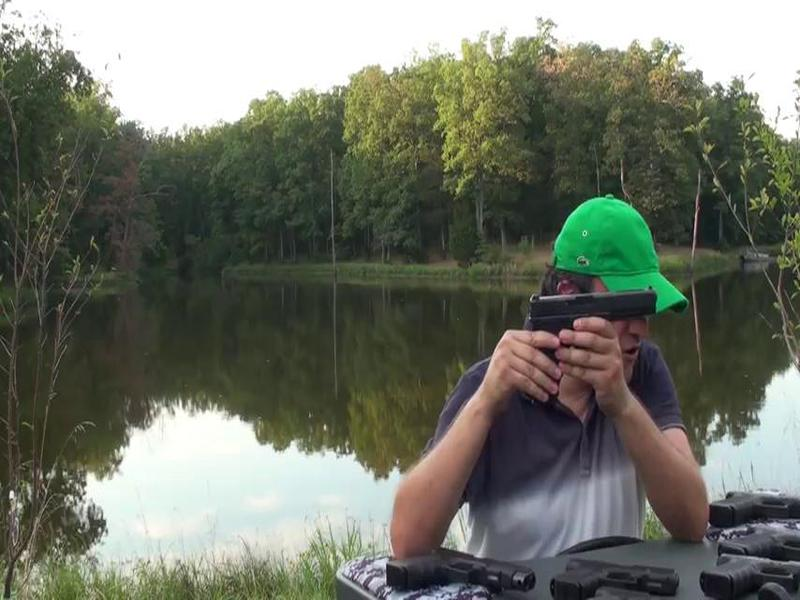Pistola: (523, 278, 661, 404)
